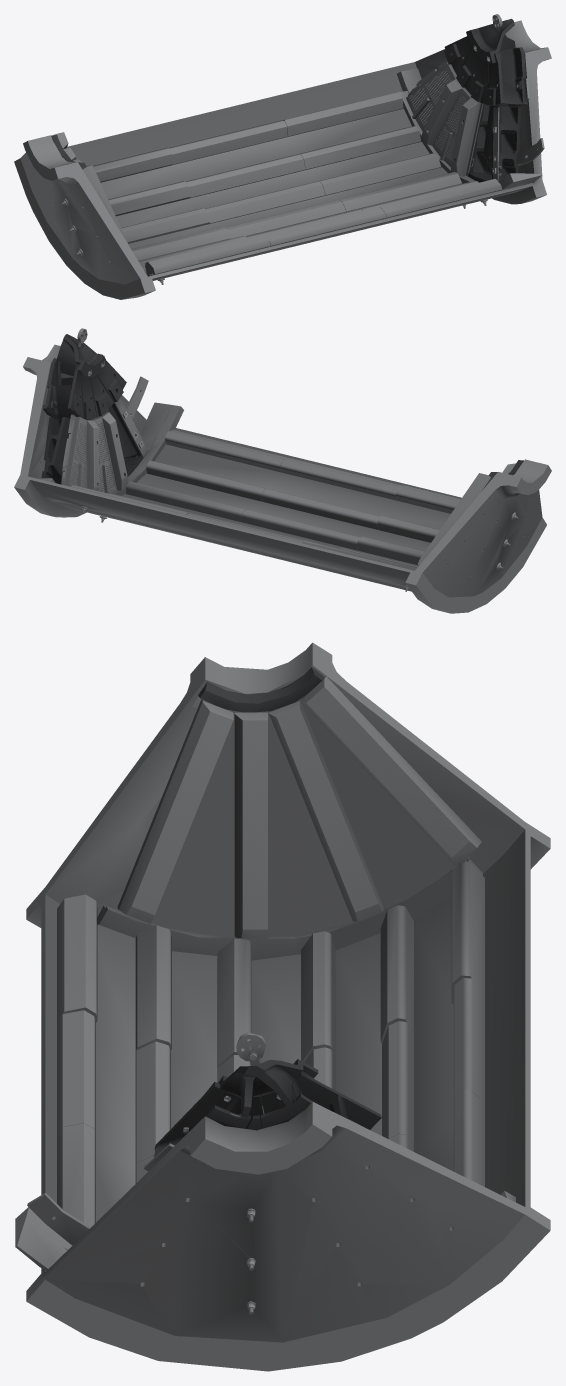
The model's file is mining-ball-ngds-mill.glb.
The picture shows the model from 3 angles, top to bottom: view 1: azimuth 30°, elevation 25°; view 2: azimuth 150°, elevation 25°; view 3: azimuth 270°, elevation 25°; orthographic projection. The views are drawn at different scales.
Visible parts, largest first — view 1: metal, rubber; view 2: metal, rubber; view 3: metal, rubber.
Boxes of the visible parts, box(x1,y1,x2,y2) form: metal: box(14, 14, 551, 299); rubber: box(51, 18, 527, 182); metal: box(14, 328, 551, 613); rubber: box(41, 334, 523, 484); metal: box(15, 642, 550, 1371); rubber: box(154, 667, 381, 1157).
Size of the model in its own units: 7.16 by 2.38 by 3.36.
Materials: 3 (1 with a texture image).
